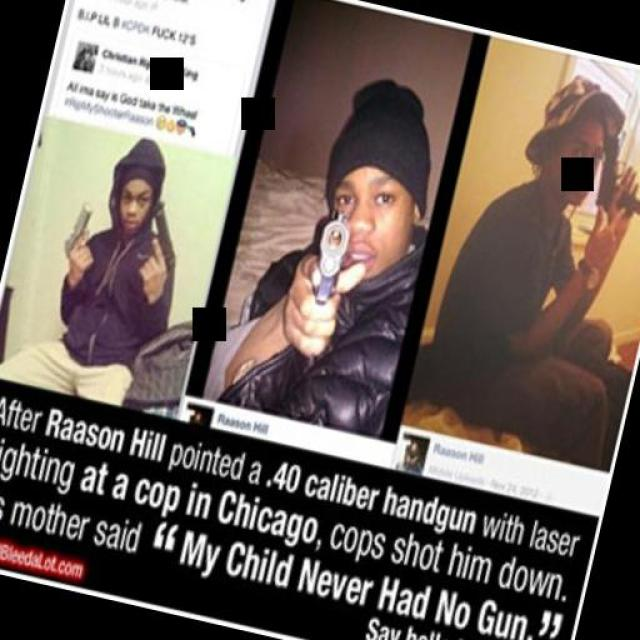gun: (579, 111, 640, 239), (295, 200, 361, 302), (48, 191, 106, 270), (134, 202, 171, 272)
